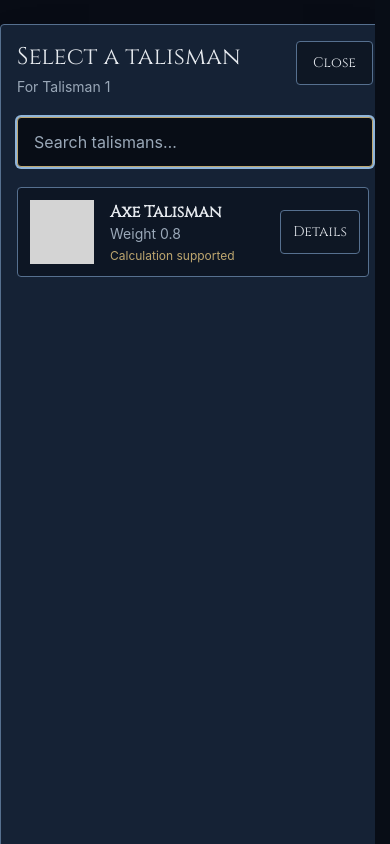
Test case: TalismanPicker › opens details without selecting the talisman
The image size is (390, 844).
Click the button "Details" at (320, 232), box 280,210 -> 360,254
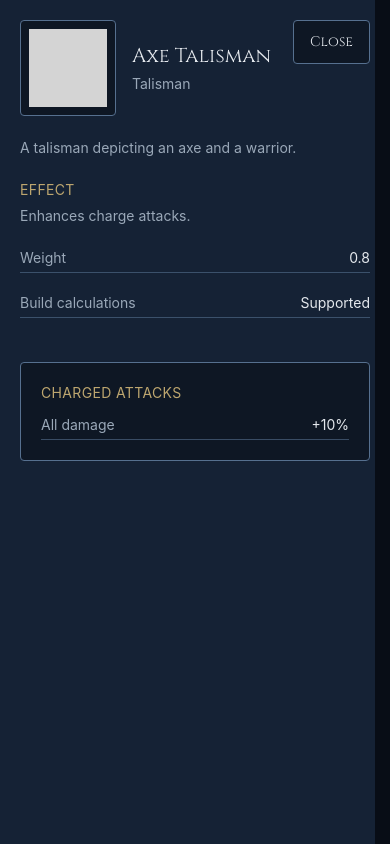
expect the element named "Axe Talisman details" shows "Enhances charge attacks.": met, box 20,207 -> 190,224
expect the text "Supported" is shown: met, box 300,293 -> 370,313
expect the heading "Charged attacks" is shown: met, box 41,384 -> 182,401
